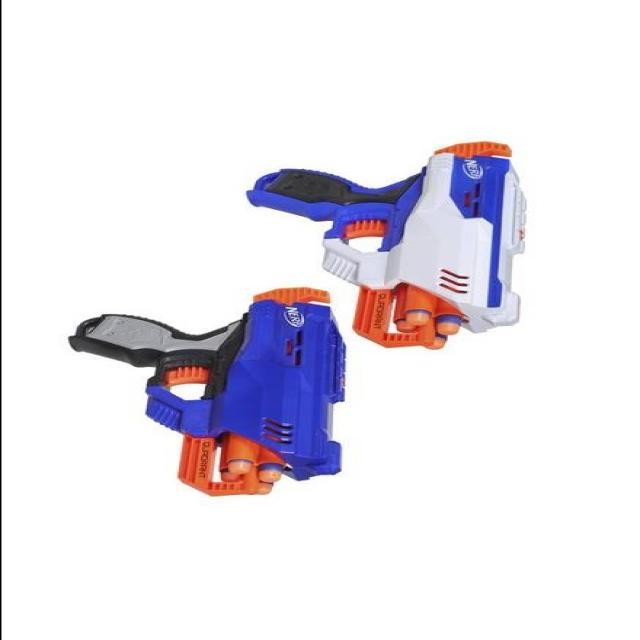Nerf gun: (232, 139, 533, 353), (64, 282, 355, 503)
